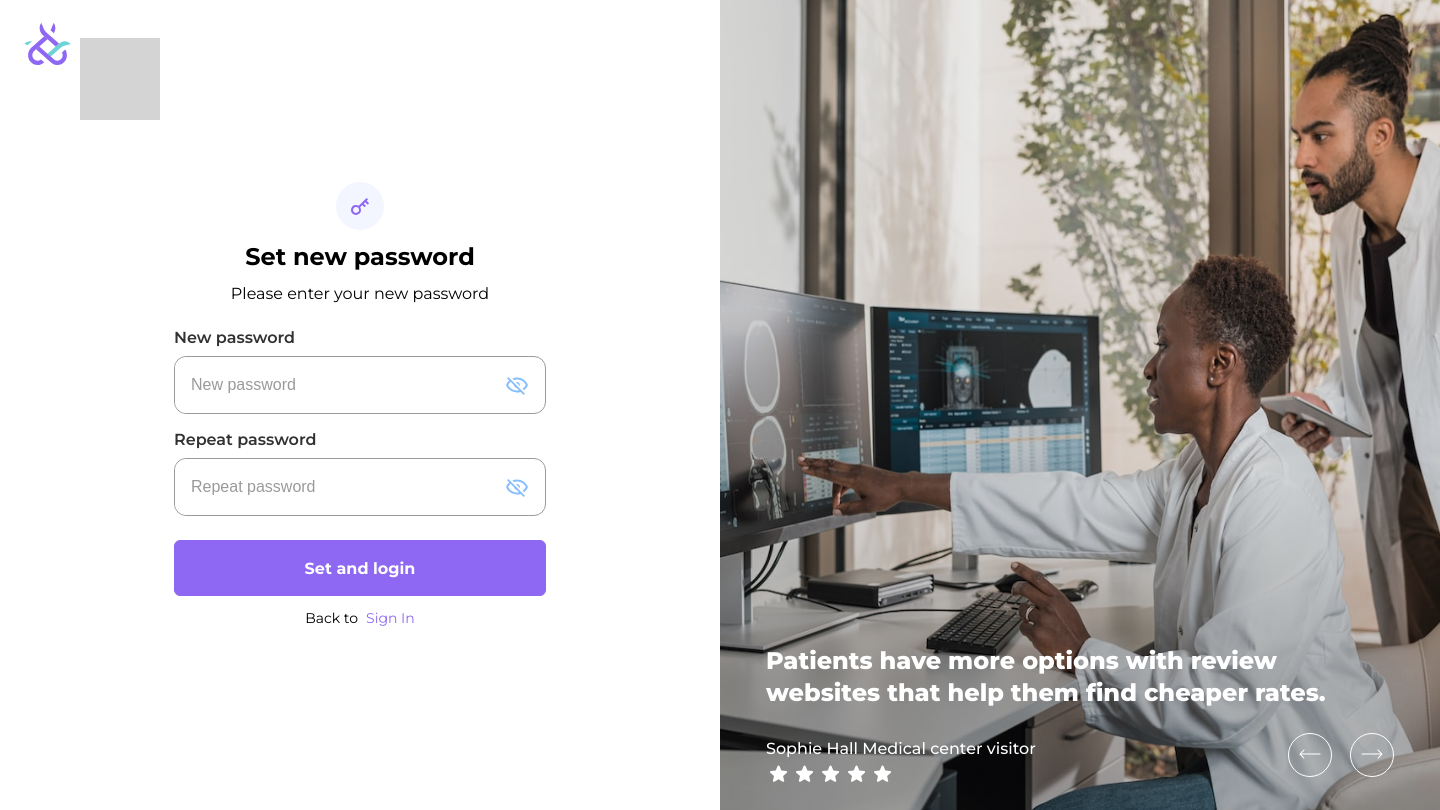
Test case: SetNewPasswordPage › does NOT submit form when inputs are empty
Click the button "Set and login". click: click(360, 568)
box: x1=174 y1=540 x2=546 y2=596
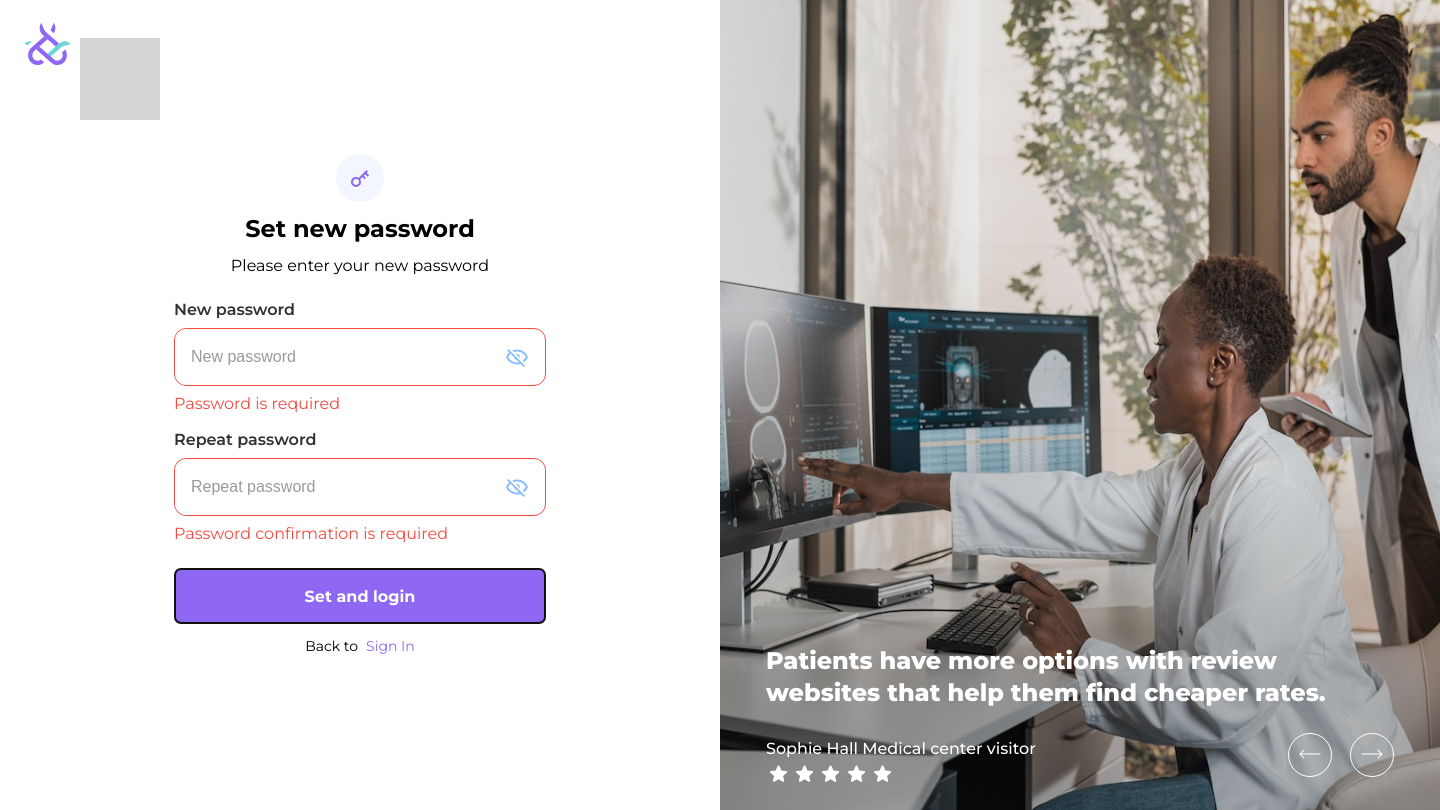
Now the text "Password is required" is shown, box x1=174 y1=394 x2=340 y2=413
Now the text "Password confirmation is required" is shown, box x1=174 y1=524 x2=448 y2=543
